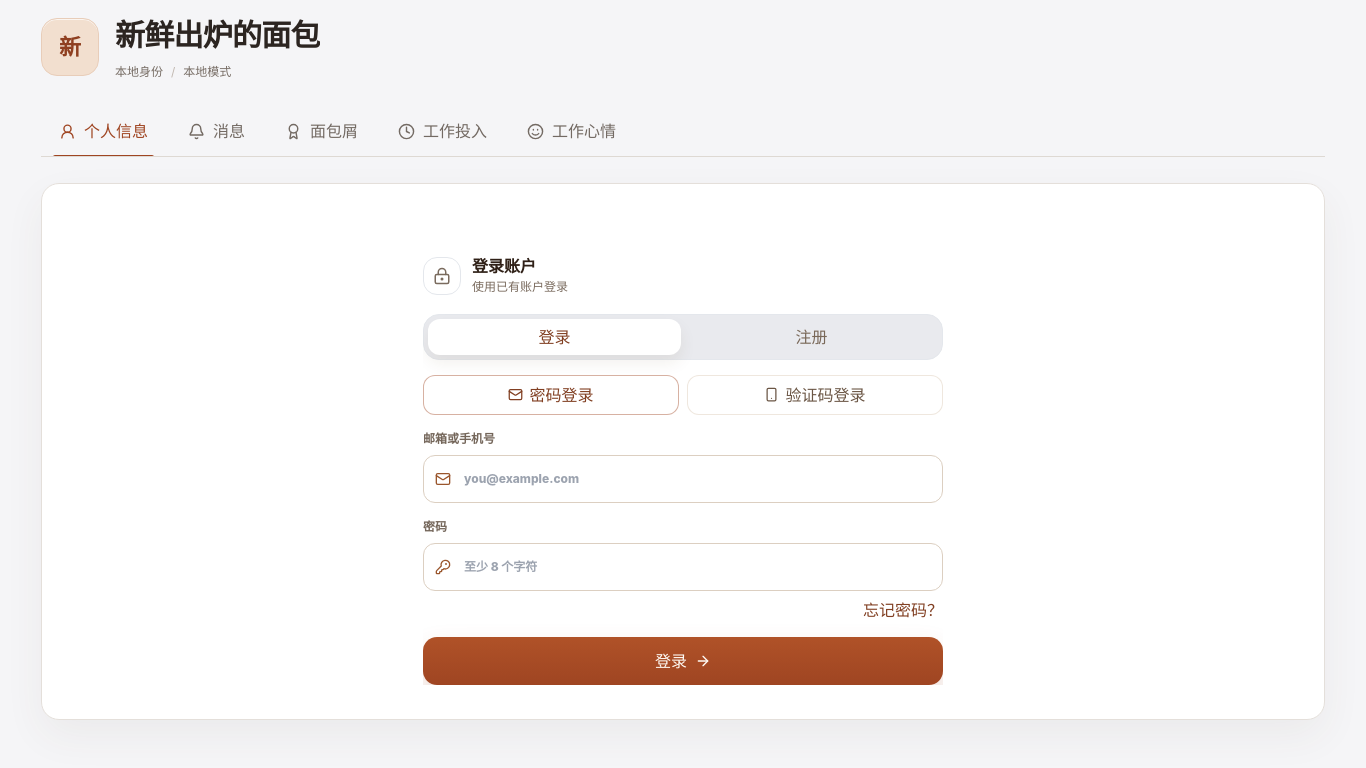
AuthPanel › 账户服务不可达时显示可操作的错误提示
This screenshot has width=1366, height=768.
(page scrolled)
Type "admin@memorybread.local" into the field with placeholder "you@example.com" at (683, 479), box [423,455,943,503]
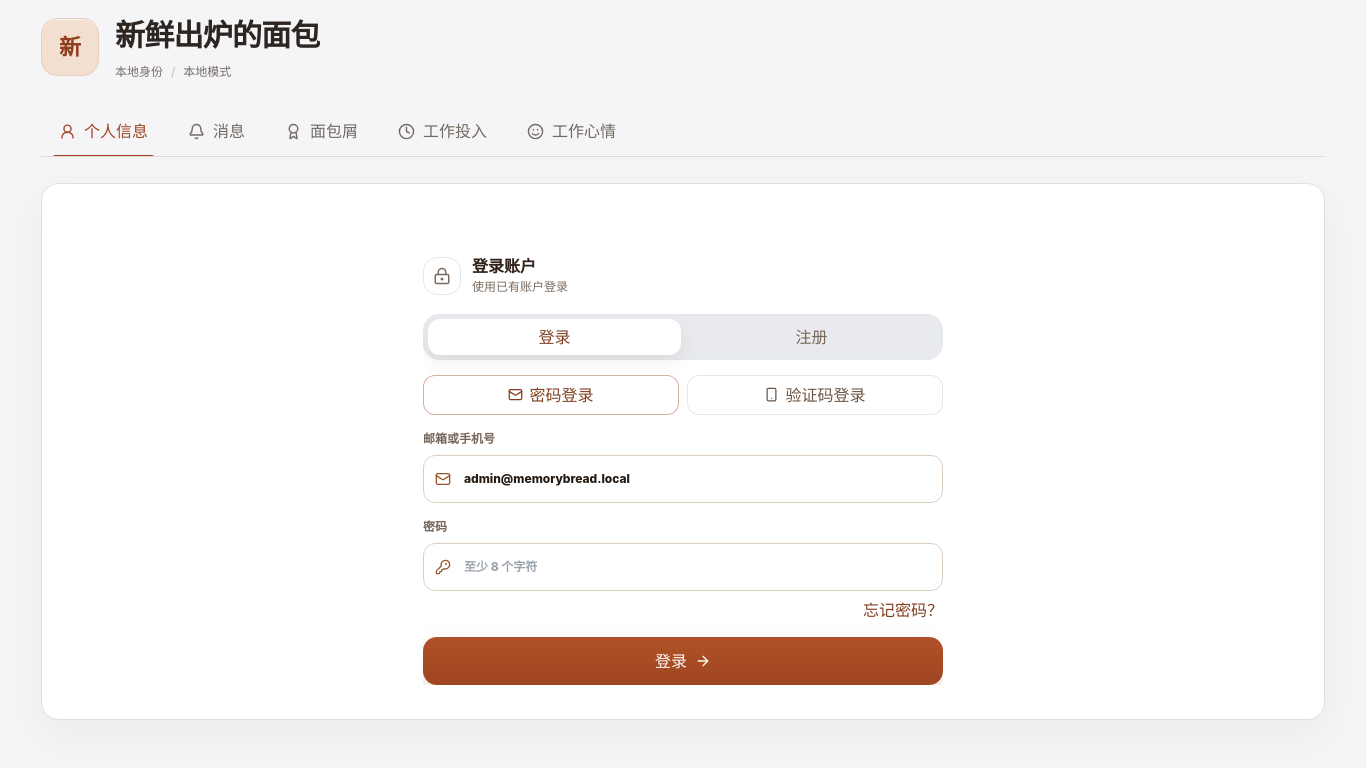
Type "MemoryBread@2026!" into the password field with placeholder "至少 8 个字符" at (683, 567), box [423,543,943,591]
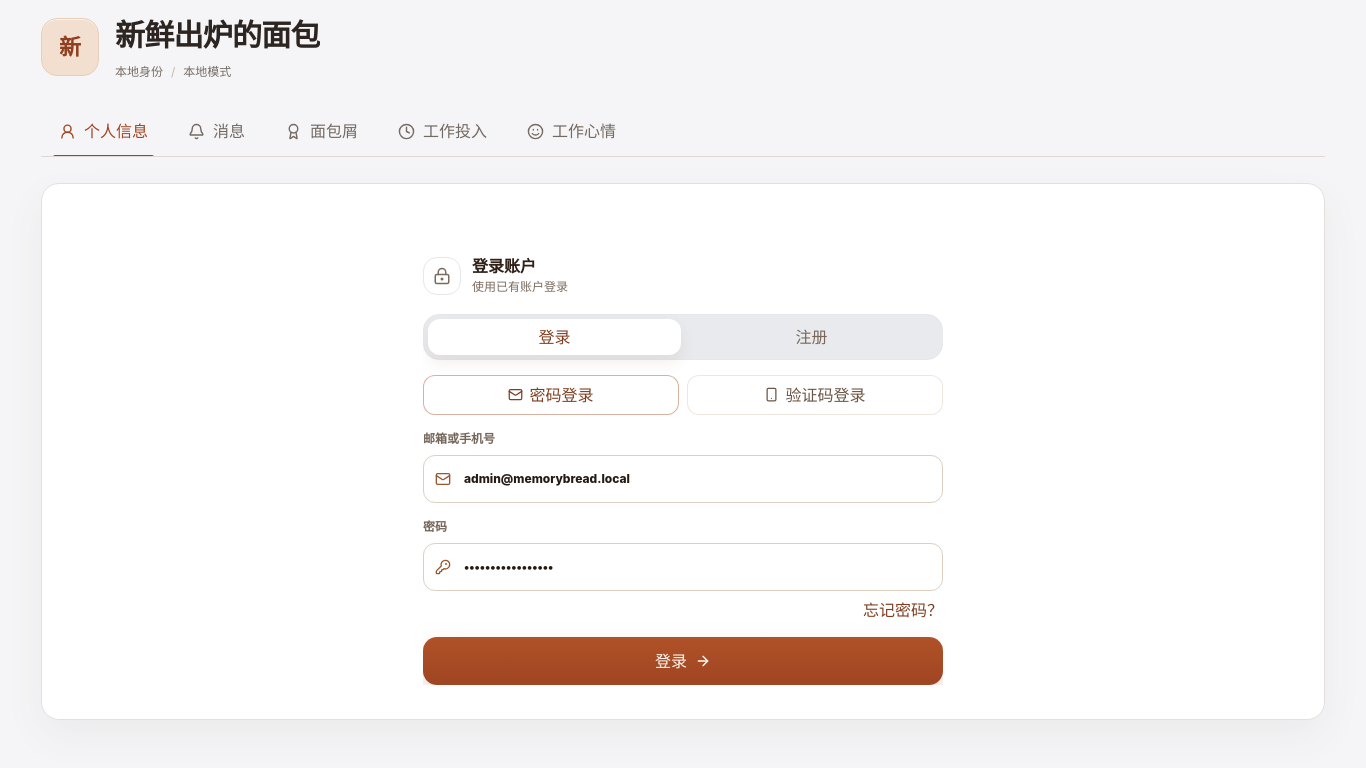
Click the button "登录" at (683, 661), box [423,637,943,685]
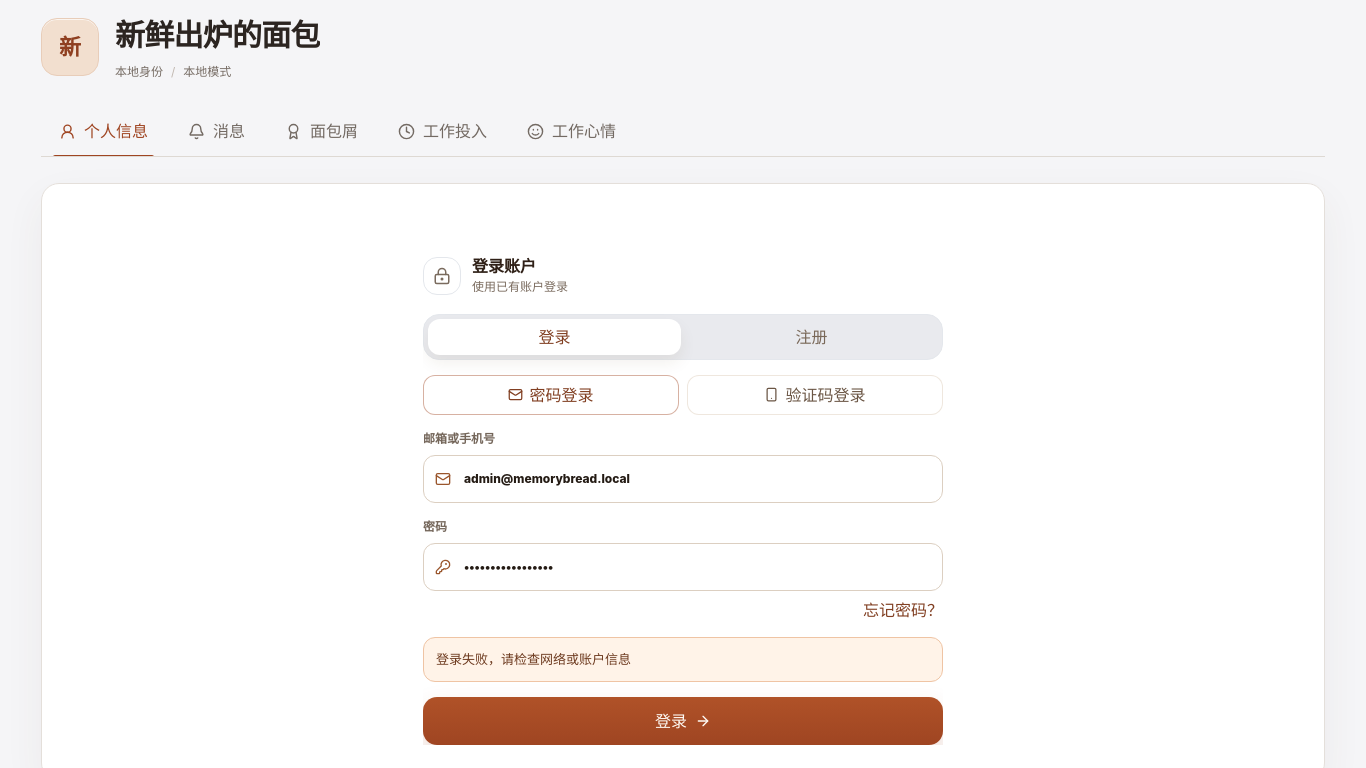
Expected: the message reads "登录失败，请检查网络或账户信息", [436,651,631,667]
